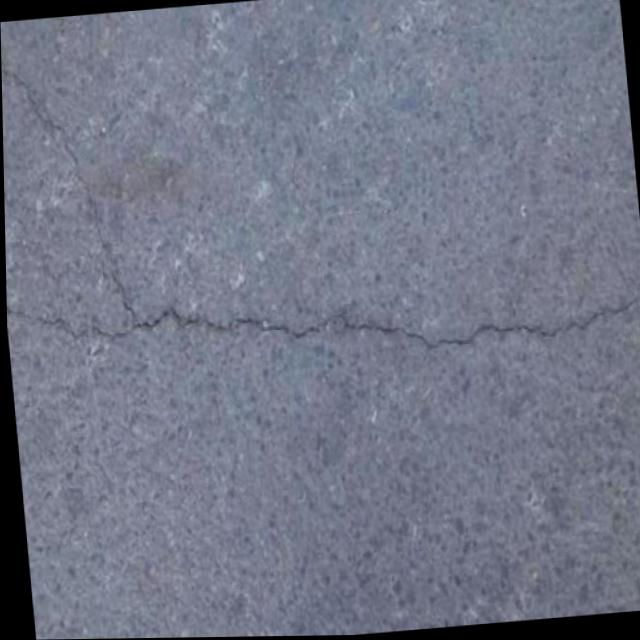Crack: (5, 260, 638, 416), (0, 11, 146, 336)
